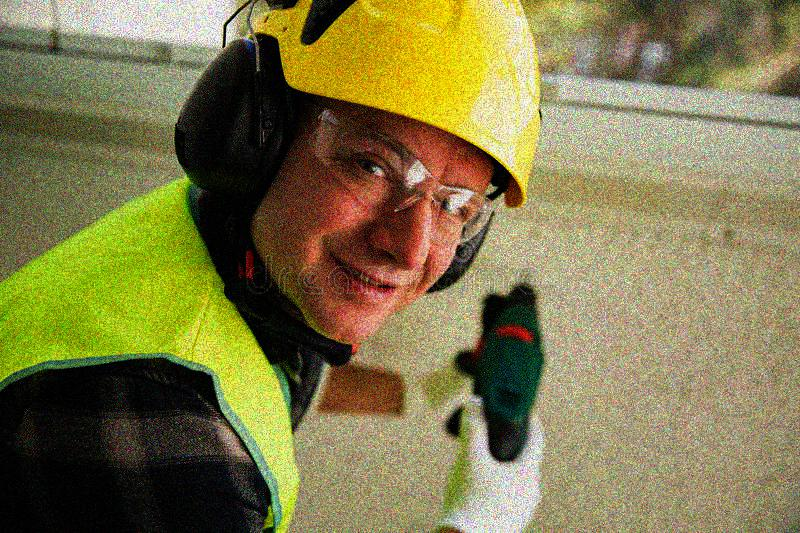helmet: (222, 1, 543, 337)
